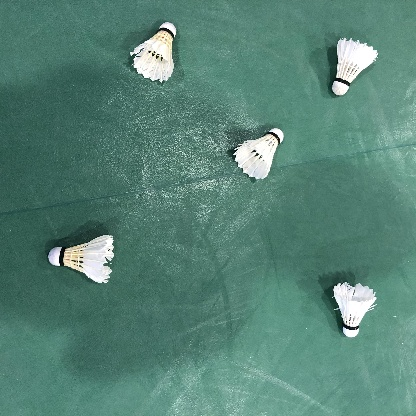ball_single: (48, 235, 115, 283), (130, 22, 176, 83), (332, 37, 378, 95), (233, 128, 284, 179), (333, 282, 377, 337)
